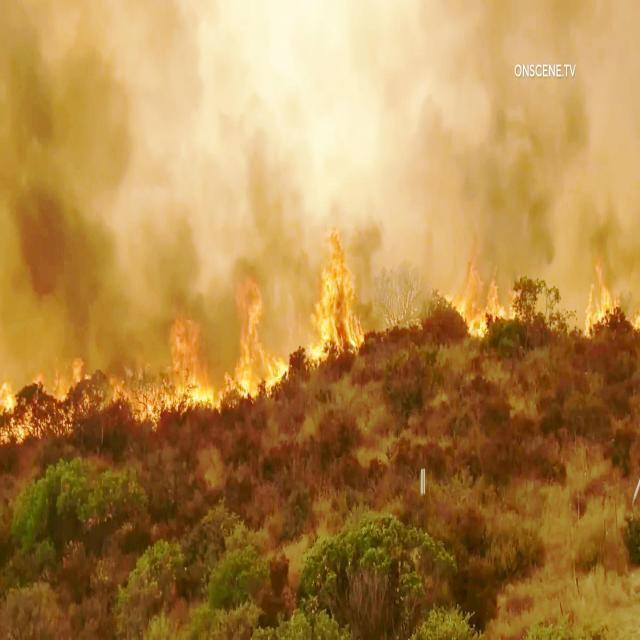Fire: (304, 221, 372, 362), (221, 264, 278, 399), (153, 304, 214, 408), (448, 246, 502, 329), (584, 245, 609, 325)
Smoke: (0, 0, 640, 241), (0, 244, 153, 375), (154, 245, 220, 309)
